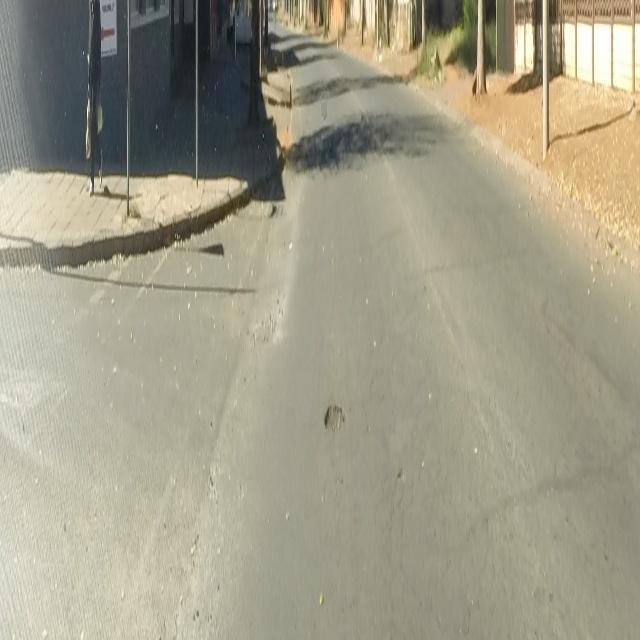pothole: (320, 388, 348, 433)
